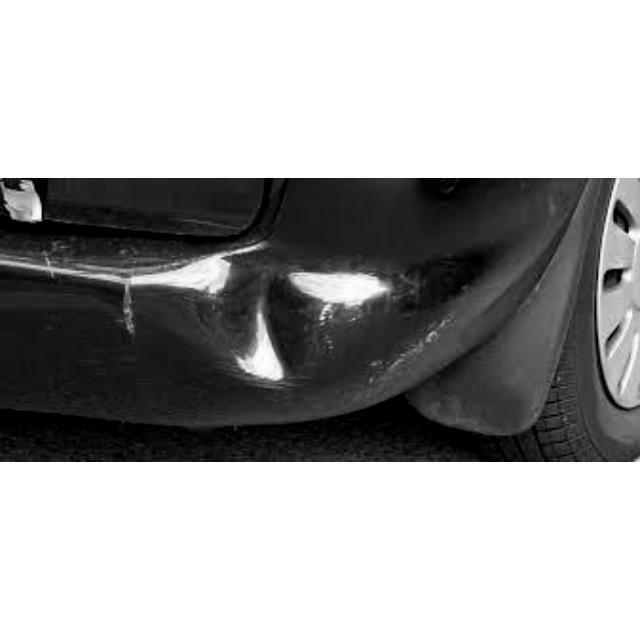front-bumper-dent: (113, 179, 580, 410)
